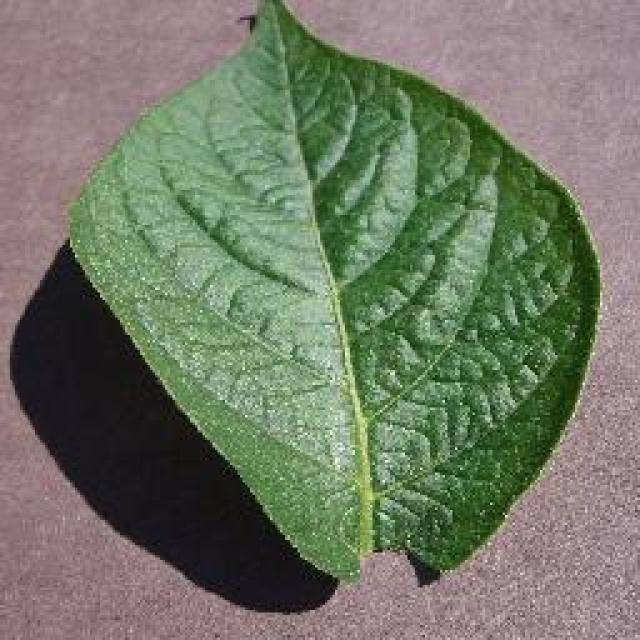healthy: (62, 0, 608, 588)
